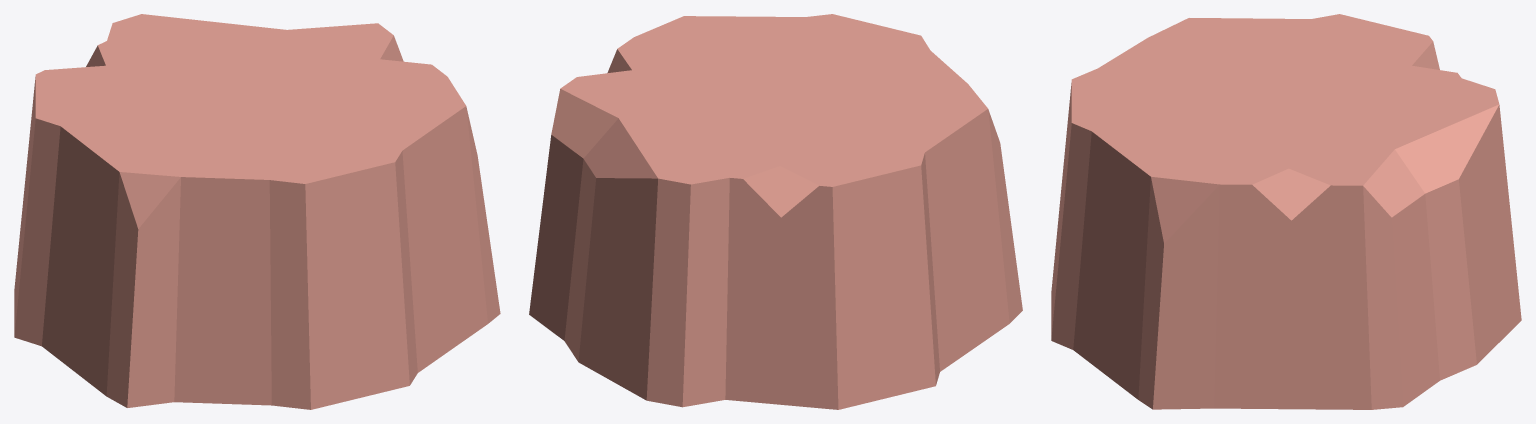
Rendered from SuperGrid_Hexagon_012_Vlad.fbx.
3 views of the same model, side by side, from view 1: azimuth 30°, elevation 25°; view 2: azimuth 150°, elevation 25°; view 3: azimuth 270°, elevation 25° (orthographic).
Visible parts, largest first — view 1: SuperGrid_Hexagon.012; view 2: SuperGrid_Hexagon.012; view 3: SuperGrid_Hexagon.012.
Part boxes in pixels (x1,y1,x2,y2): SuperGrid_Hexagon.012: [14, 14, 500, 409]; SuperGrid_Hexagon.012: [529, 14, 1022, 409]; SuperGrid_Hexagon.012: [1051, 14, 1521, 409].
Size of the model in its own units: 18774 by 10000 by 19753.
